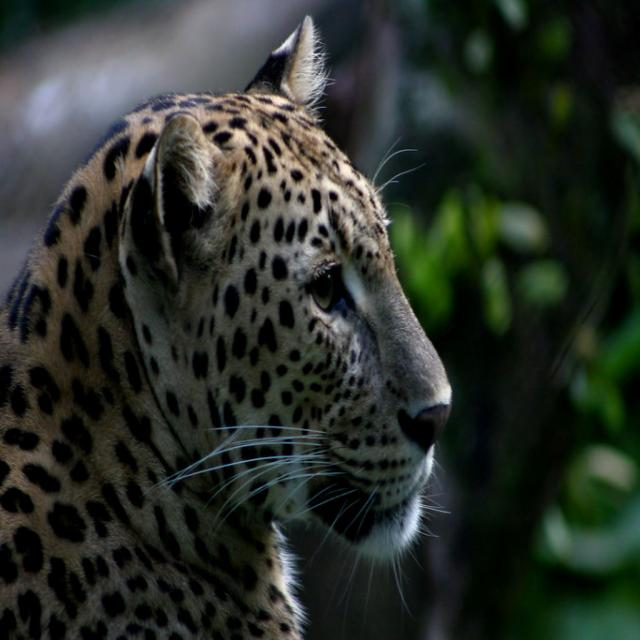Cheetah: (0, 15, 453, 640)
